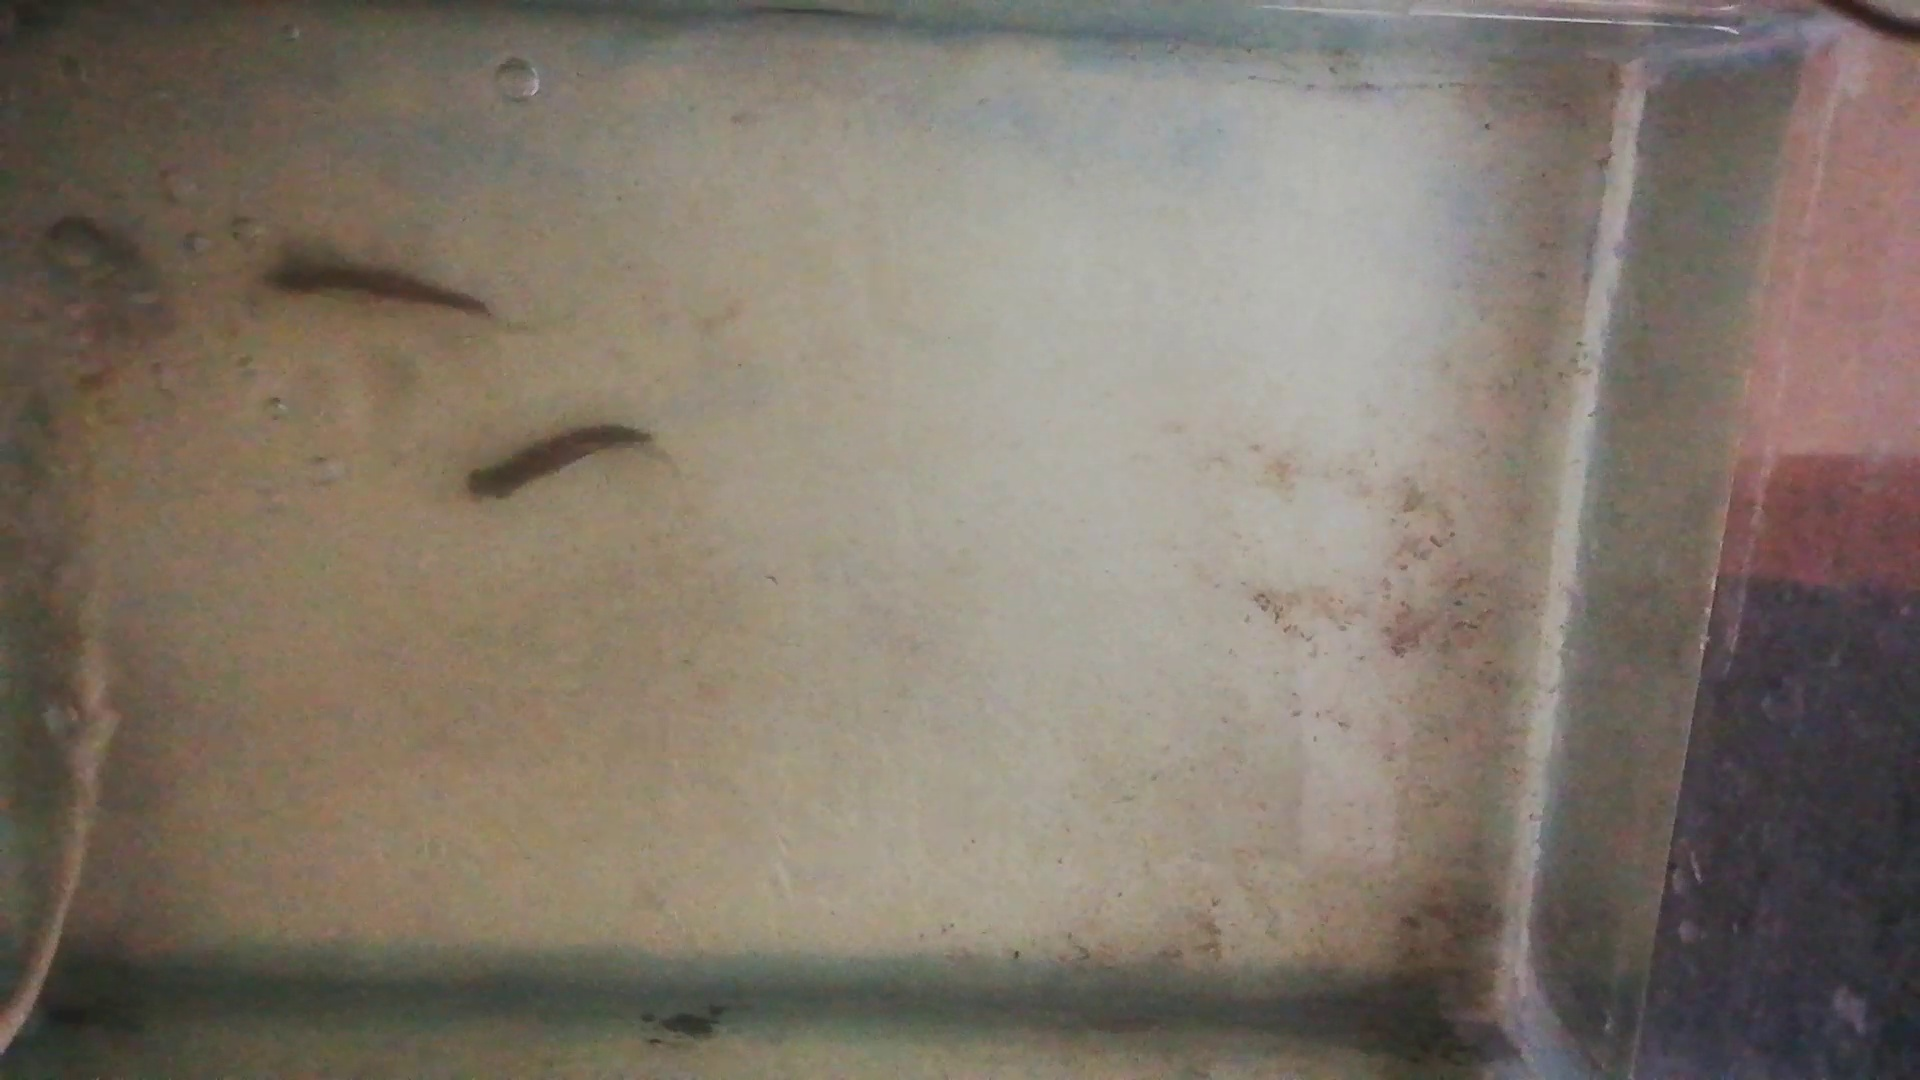fish: (463, 422, 650, 506), (266, 251, 483, 310)
